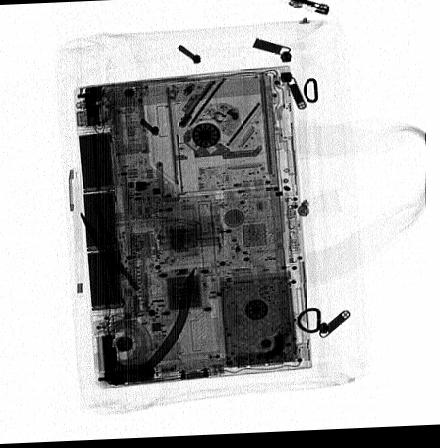Scissors: (77, 191, 143, 308)
